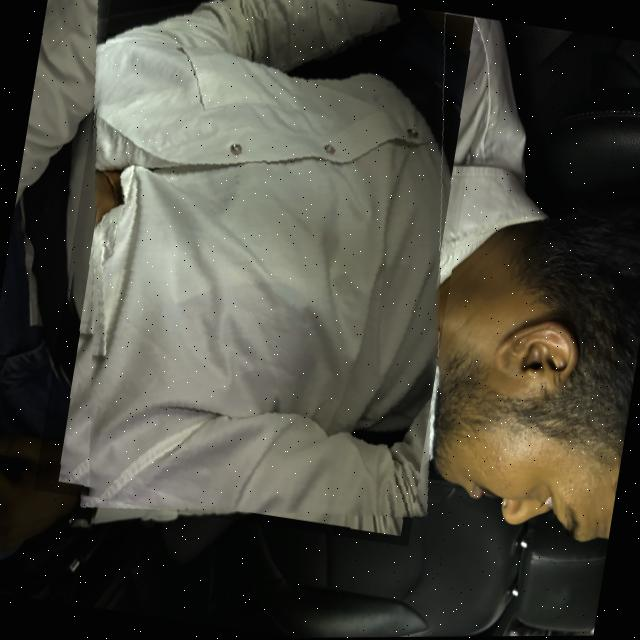no-seatbelt: (32, 0, 490, 549)
